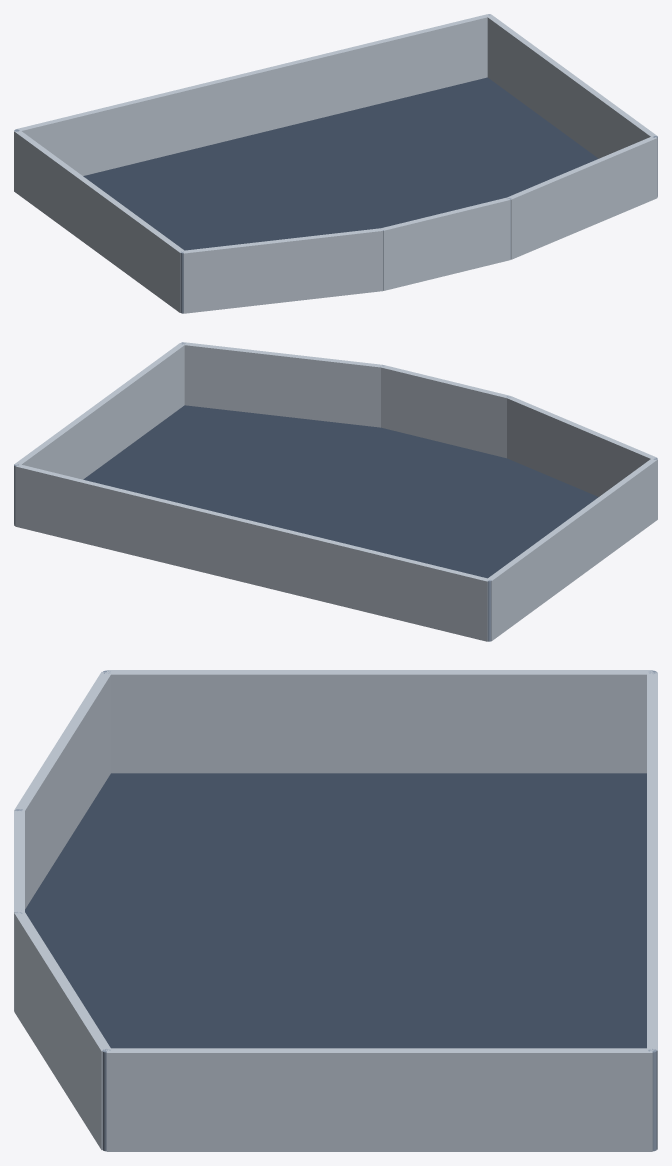
The model's file is 90cff161-3727-4925-953e-c38977e35bef.glb.
3 renders of one model, top to bottom at view 1: azimuth 30°, elevation 25°; view 2: azimuth 150°, elevation 25°; view 3: azimuth 270°, elevation 25°, orthographic. The views are drawn at different scales.
Parts seen in each view (by area): view 1: room-content; view 2: room-content; view 3: room-content.
Part boxes in pixels (box(x1,y1,x2,y2)): room-content: box(14, 14, 657, 313); room-content: box(14, 342, 657, 641); room-content: box(14, 670, 657, 1151).
Size of the model in its own units: 41.5 by 5 by 29.5.
